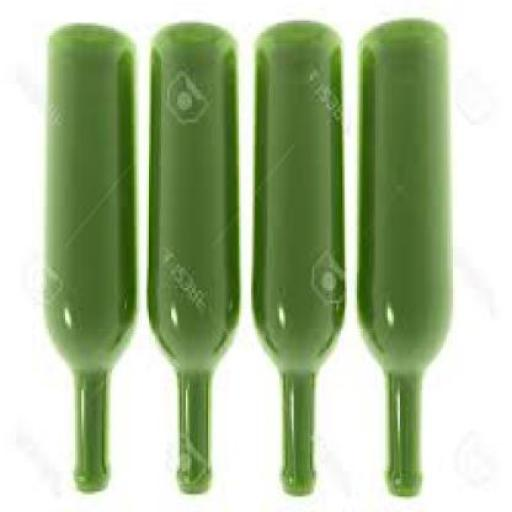glass: (251, 25, 345, 499), (357, 20, 450, 499), (146, 28, 236, 496), (43, 28, 133, 496)
